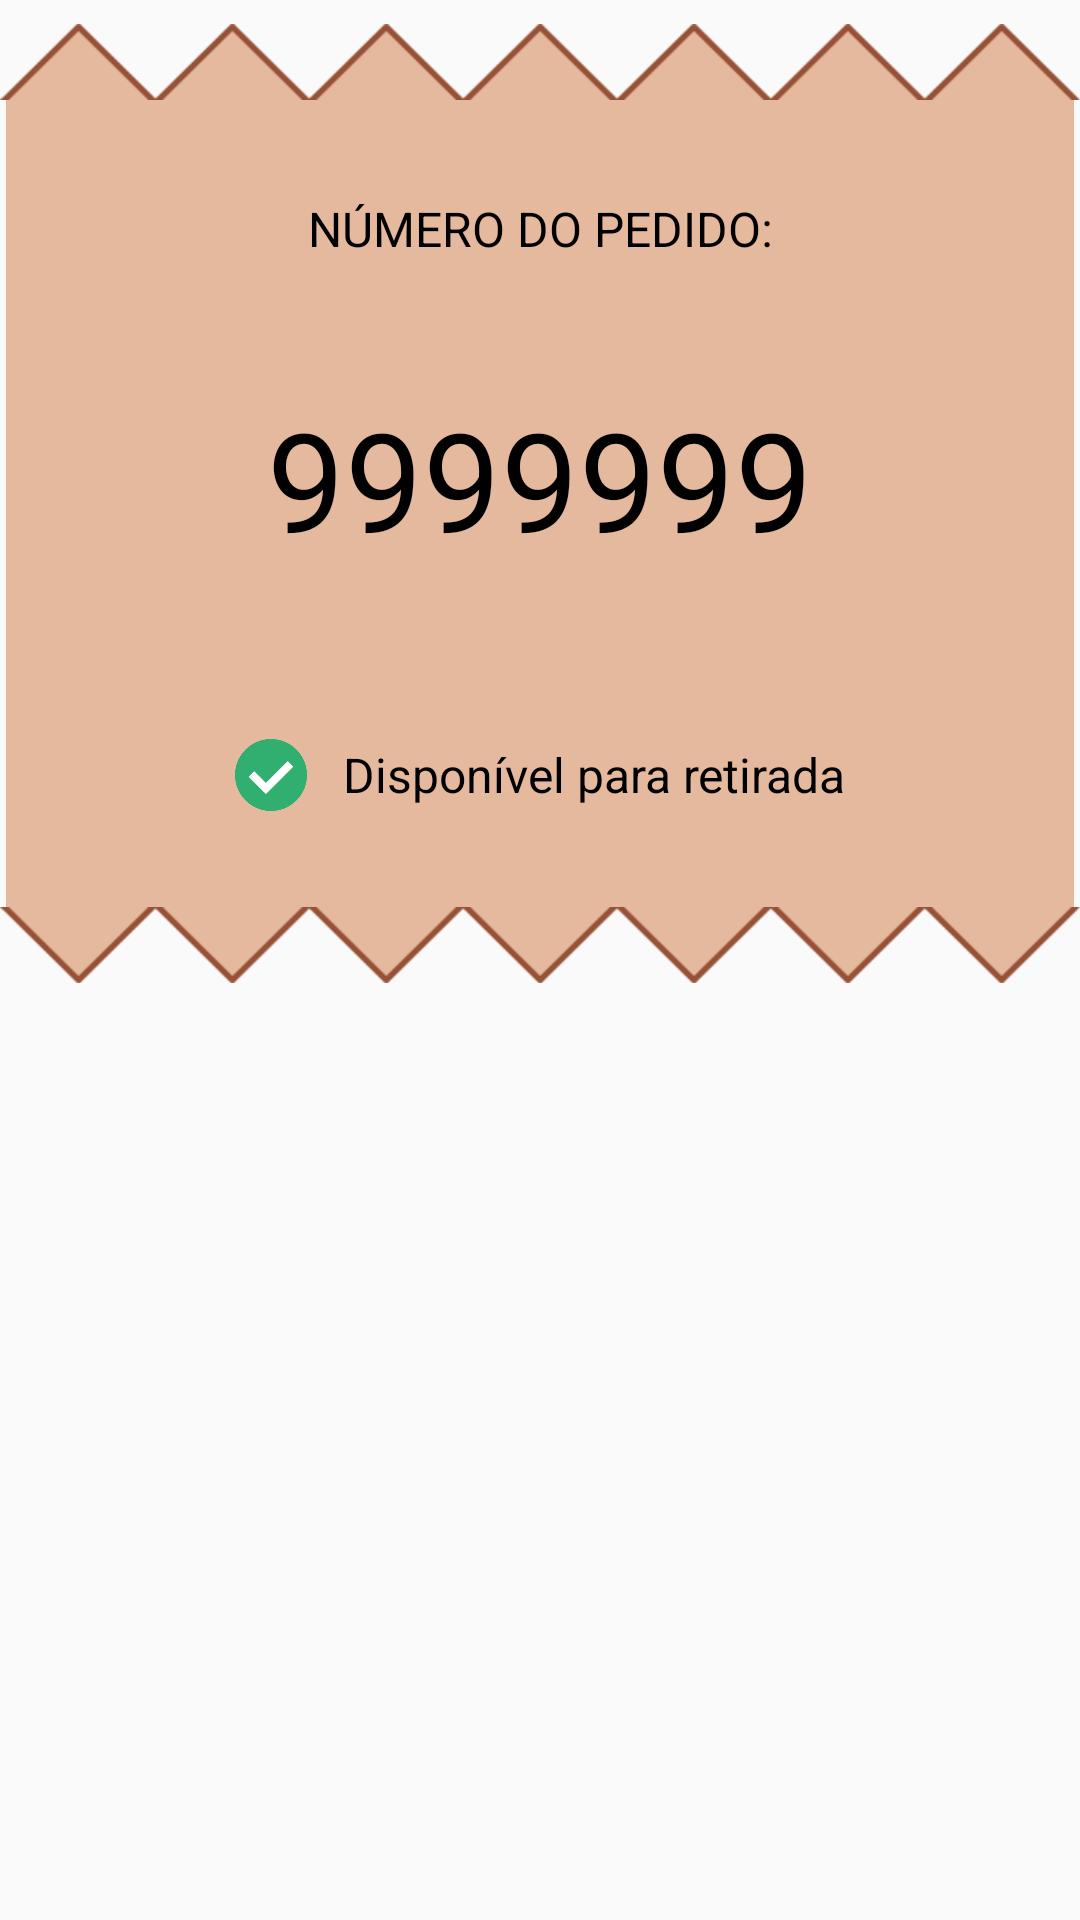

Named icons in this screenshot (1080x1920) and their bounding boxes, (x1, y1, x2, y2):
check ok: (235, 739, 307, 811)
